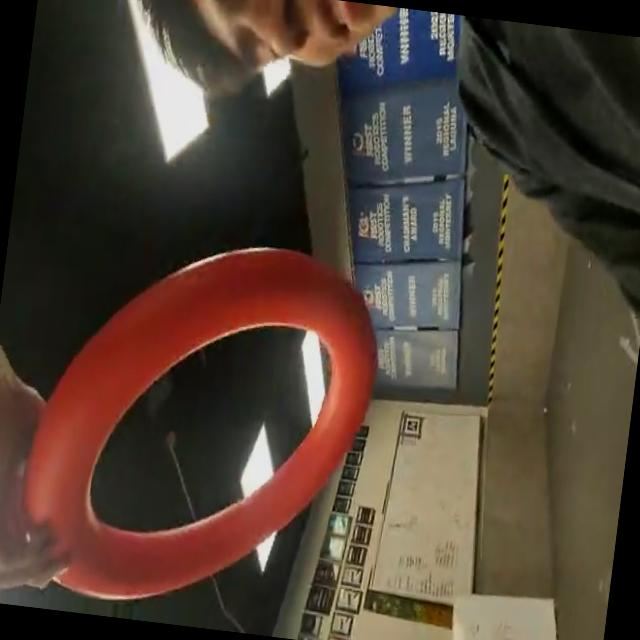note: (11, 214, 396, 629)
